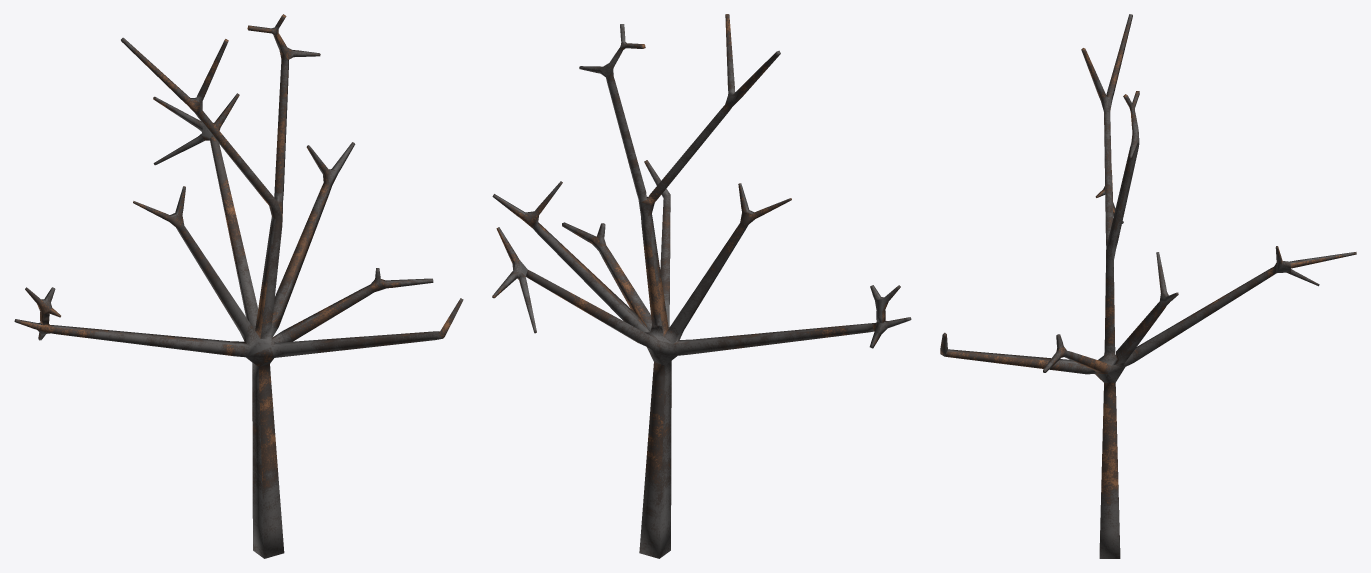
The model's file is dead-tree-1.glb.
3 views of the same model, side by side, from view 1: azimuth 30°, elevation 25°; view 2: azimuth 150°, elevation 25°; view 3: azimuth 270°, elevation 25° (orthographic). The views are drawn at different scales.
Visible parts, largest first — view 1: Plane; view 2: Plane; view 3: Plane.
Part boxes in pixels (x1,y1,x2,y2): Plane: [14, 14, 463, 558]; Plane: [492, 14, 911, 558]; Plane: [940, 14, 1356, 558].
Bounding box in the file's own units: 2.55 × 3.43 × 2.68.
Materials: 1 (1 with a texture image).
